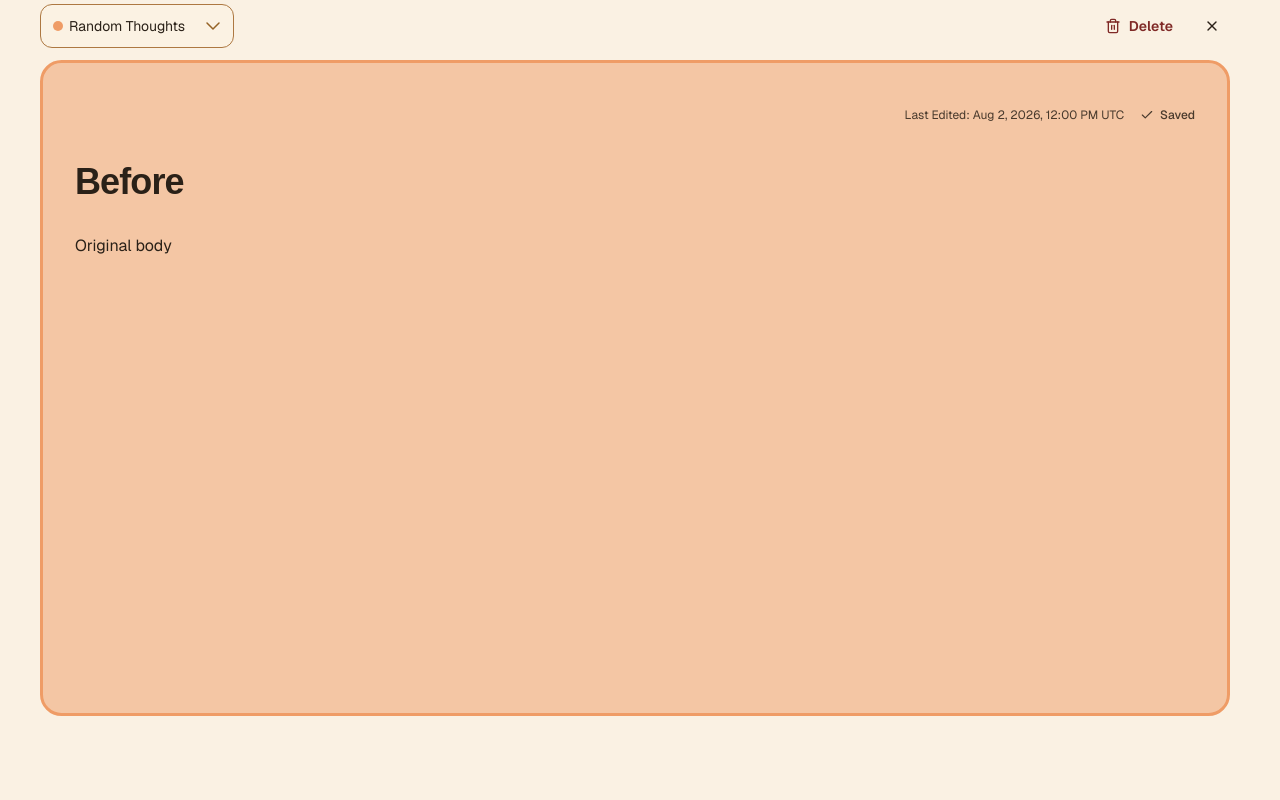
Test: NoteEditor › keeps the draft available and retries a failed close
Step 1. Click the dropdown named "Category" → (137, 26), box [40,4,234,48]
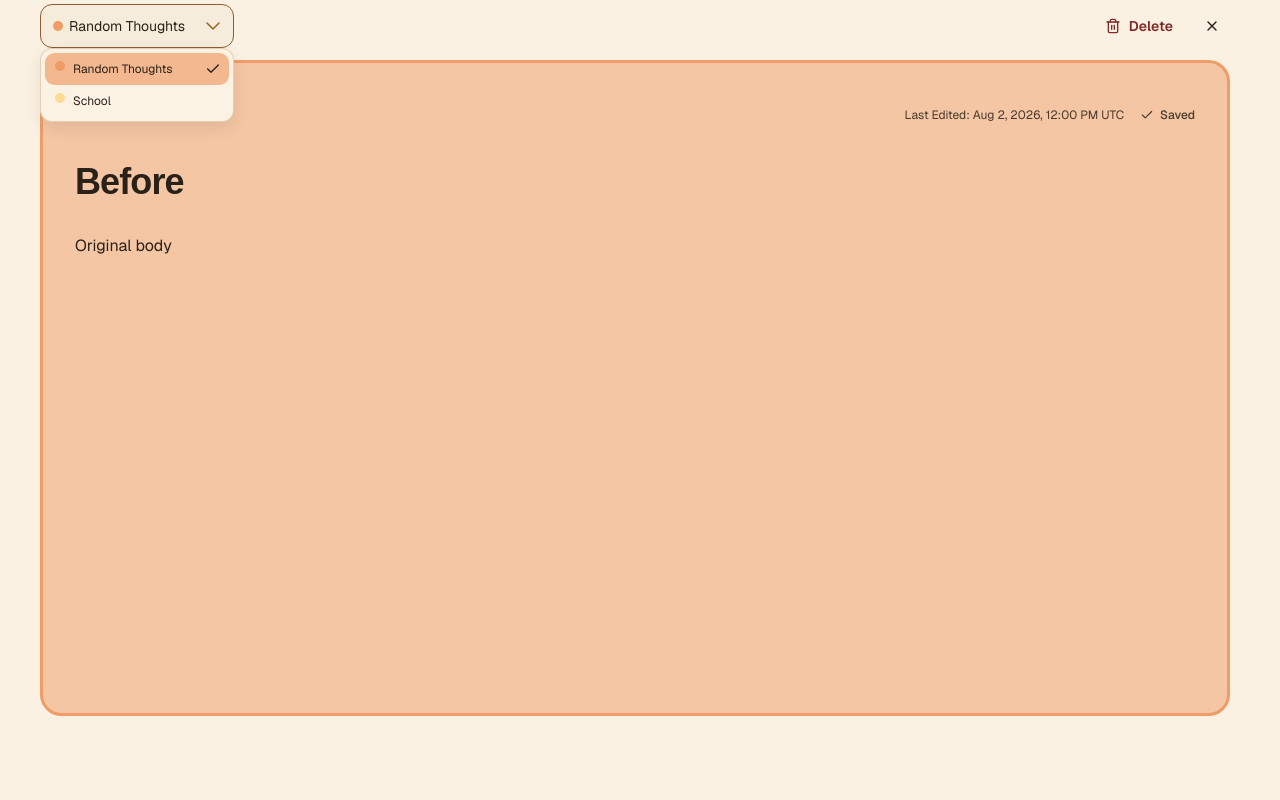
Step 2. Click the option "School" → (83, 101), box [55,93,111,109]
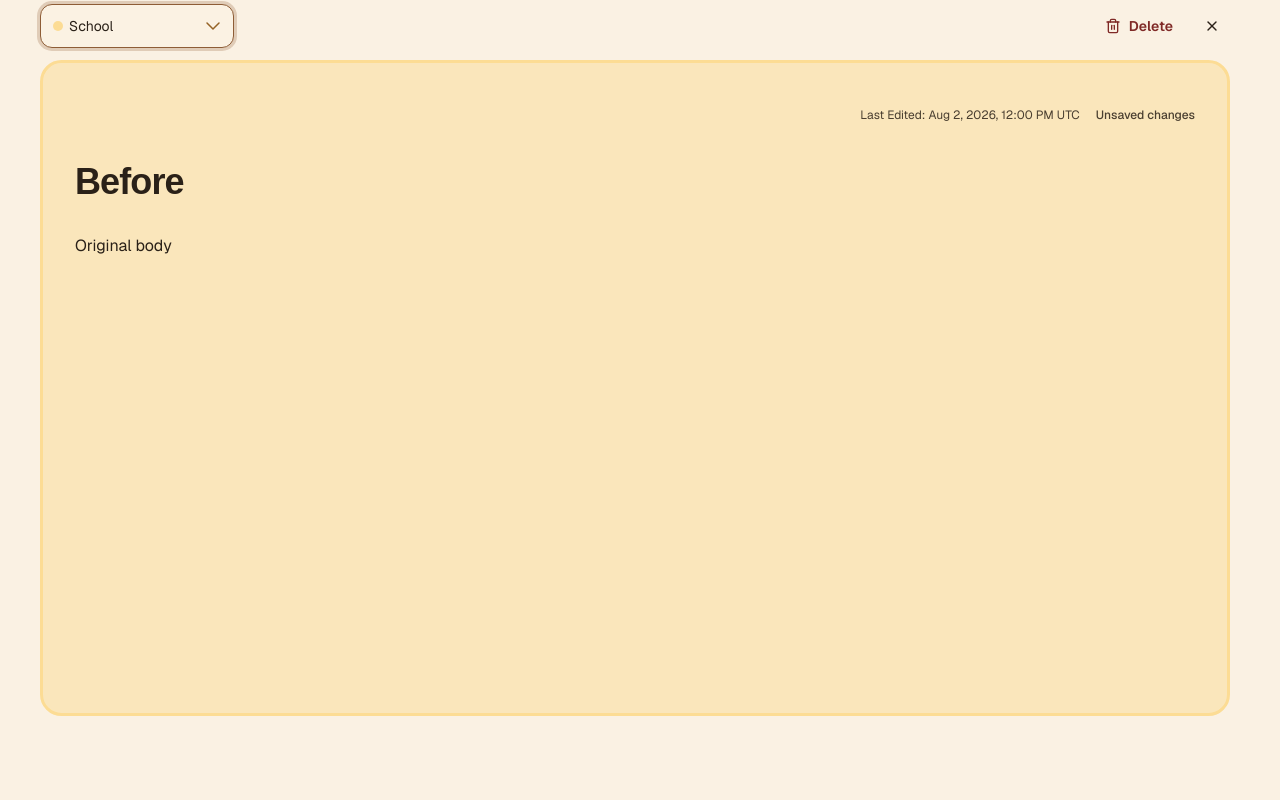
Step 3. Click the button named "Close" → (1212, 26), box [1194,8,1230,44]
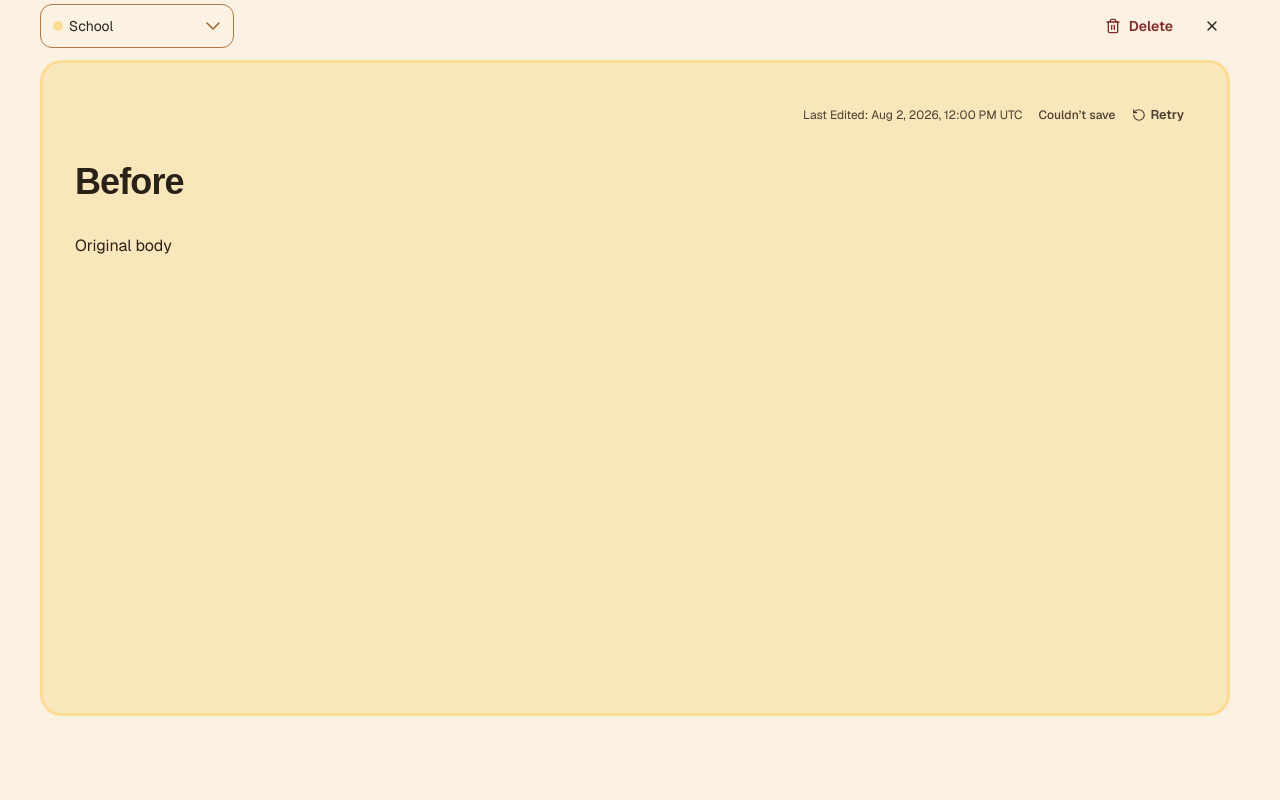
expect the dropdown named "Category" shows "School": met, box [40,4,234,48]
expect the text "Couldn’t save" is shown: met, box [1038,107,1115,123]
Step 4. Click the button "Retry" → (1158, 115), box [1121,101,1195,129]
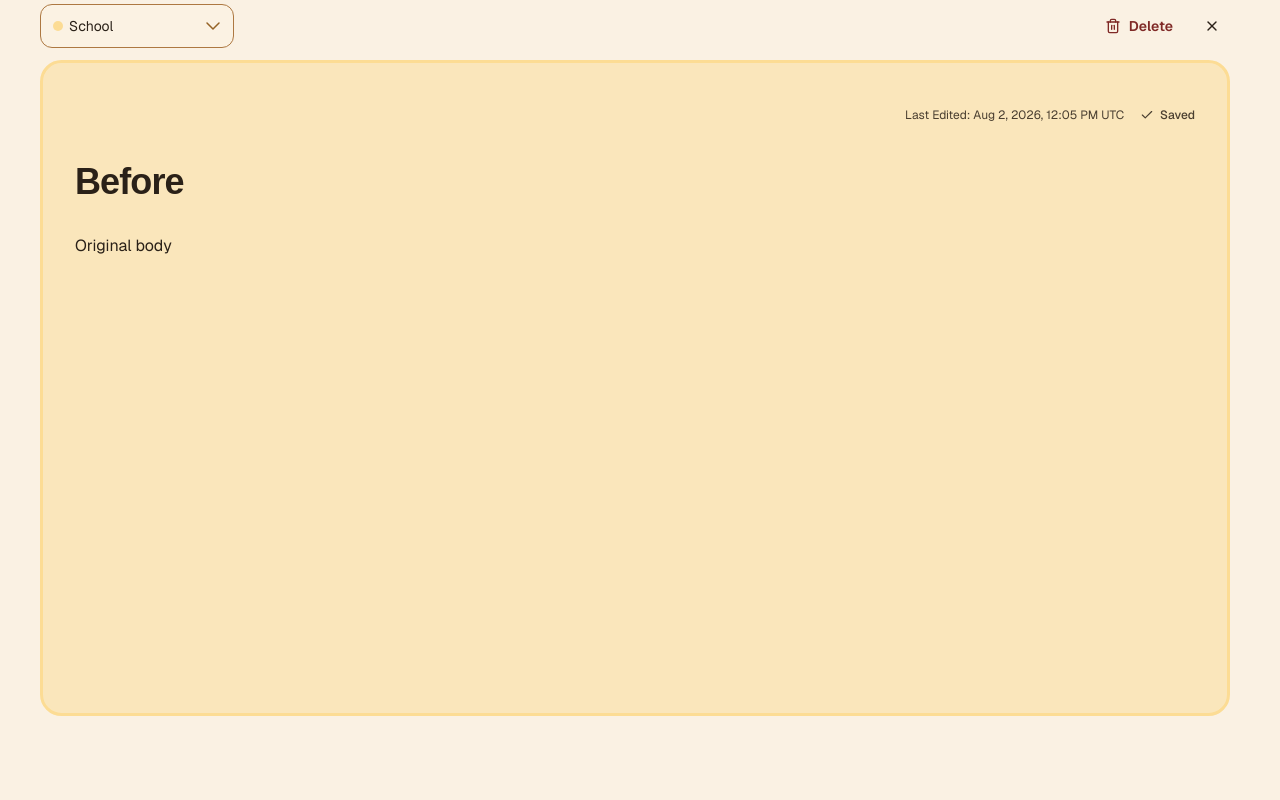
expect the text "Saved" is shown: met, box [1160,107,1195,123]
